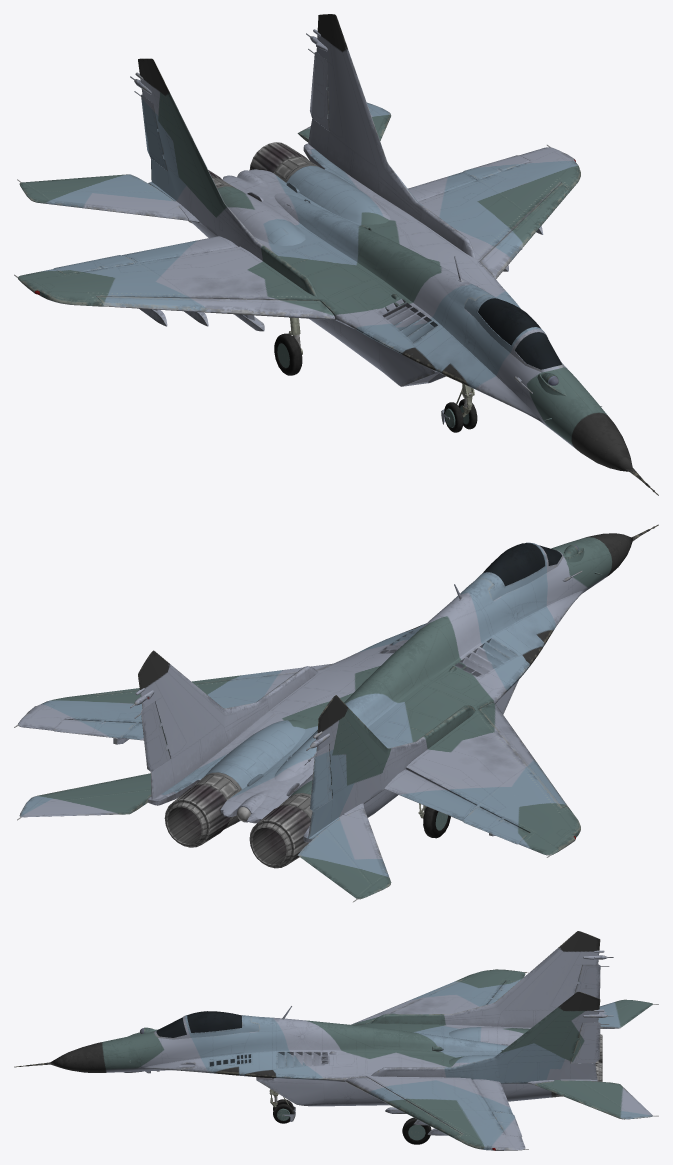
The model's file is MIG-29_Normal.fbx.
The picture shows the model from 3 angles, top to bottom: view 1: azimuth 30°, elevation 25°; view 2: azimuth 150°, elevation 25°; view 3: azimuth 270°, elevation 25°; orthographic projection. The views are drawn at different scales.
Parts seen in each view (by area): view 1: MIG-29_01; view 2: MIG-29_01; view 3: MIG-29_01.
Boxes of the visible parts, x1,y1,x2,y2 form: MIG-29_01: (14,14,658,495); MIG-29_01: (14,524,658,902); MIG-29_01: (14,931,658,1150).
Bounding box in the file's own units: 460 × 190 × 697.
